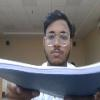notebook: (0, 55, 99, 97)
